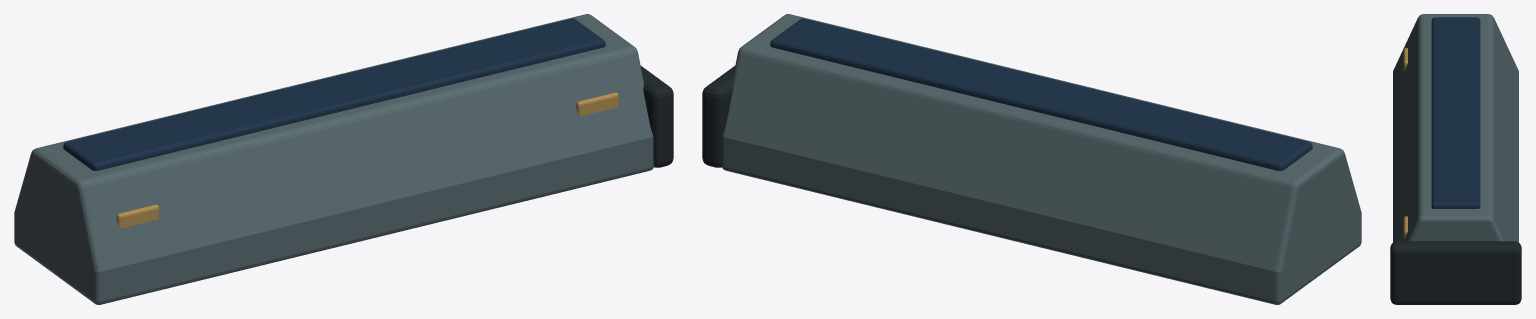
The model's file is ROAD_DIVIDER.hi.glb.
3 renders of one model, left to right at view 1: azimuth 30°, elevation 25°; view 2: azimuth 150°, elevation 25°; view 3: azimuth 270°, elevation 25°, orthographic. The views are drawn at different scales.
Parts seen in each view (by area): view 1: Body_Mesh, EndCapPivot_Mesh; view 2: Body_Mesh, EndCapPivot_Mesh; view 3: Body_Mesh, EndCapPivot_Mesh.
Boxes of the visible parts, x1=… form: Body_Mesh: x1=14, y1=14, x2=653, y2=304; EndCapPivot_Mesh: x1=640, y1=66, x2=673, y2=167; Body_Mesh: x1=722, y1=14, x2=1361, y2=304; EndCapPivot_Mesh: x1=702, y1=66, x2=735, y2=167; Body_Mesh: x1=1393, y1=14, x2=1518, y2=242; EndCapPivot_Mesh: x1=1390, y1=241, x2=1521, y2=304.
Bounding box in the file's own units: 2.06 × 0.4025 × 0.54.
